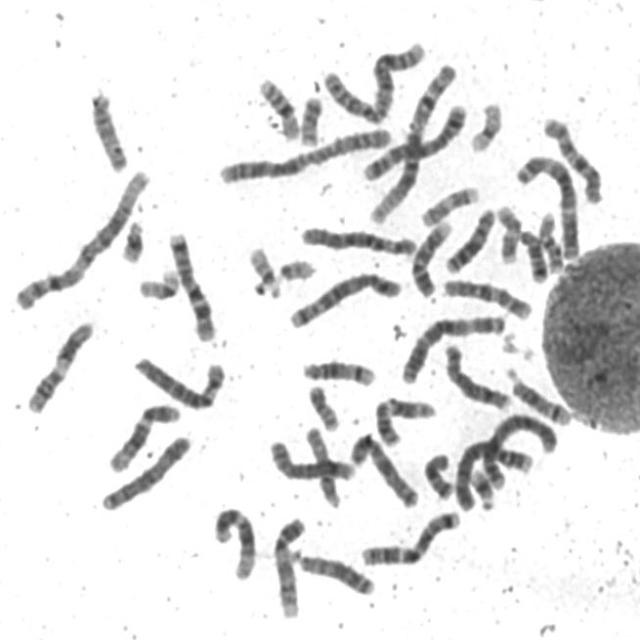A1: (7, 160, 152, 313), (363, 55, 461, 226)
A2: (211, 120, 395, 186), (318, 33, 429, 125)
A3: (395, 308, 508, 385), (510, 147, 583, 263)
B4: (475, 406, 560, 490), (450, 434, 534, 514)
B5: (356, 95, 469, 183), (284, 265, 404, 330)
C10: (536, 108, 606, 205), (436, 270, 534, 322)
C11: (20, 313, 96, 415), (368, 390, 438, 447)
C12: (102, 395, 182, 474), (208, 499, 258, 582)
C6: (128, 348, 228, 411), (294, 217, 420, 259)
C7: (355, 503, 462, 568), (161, 224, 218, 343)
C8: (438, 337, 514, 412), (262, 434, 356, 484)
C9: (268, 510, 308, 621), (406, 213, 454, 299)
D13: (286, 544, 376, 598), (439, 200, 497, 276)
D14: (500, 361, 574, 428), (296, 352, 378, 388)
D15: (84, 84, 131, 174), (298, 419, 343, 510)
E16: (252, 69, 302, 142), (532, 206, 566, 274)
E17: (415, 178, 482, 228), (490, 198, 522, 265)
E18: (418, 445, 456, 501), (513, 224, 549, 283)
F19: (463, 95, 505, 153), (131, 261, 182, 301)
F20: (302, 377, 342, 432), (294, 87, 325, 148)
G21: (114, 212, 148, 265), (465, 462, 497, 512)
G22: (242, 238, 284, 300), (272, 252, 318, 284)
X: (94, 427, 193, 513), (344, 426, 420, 510)
